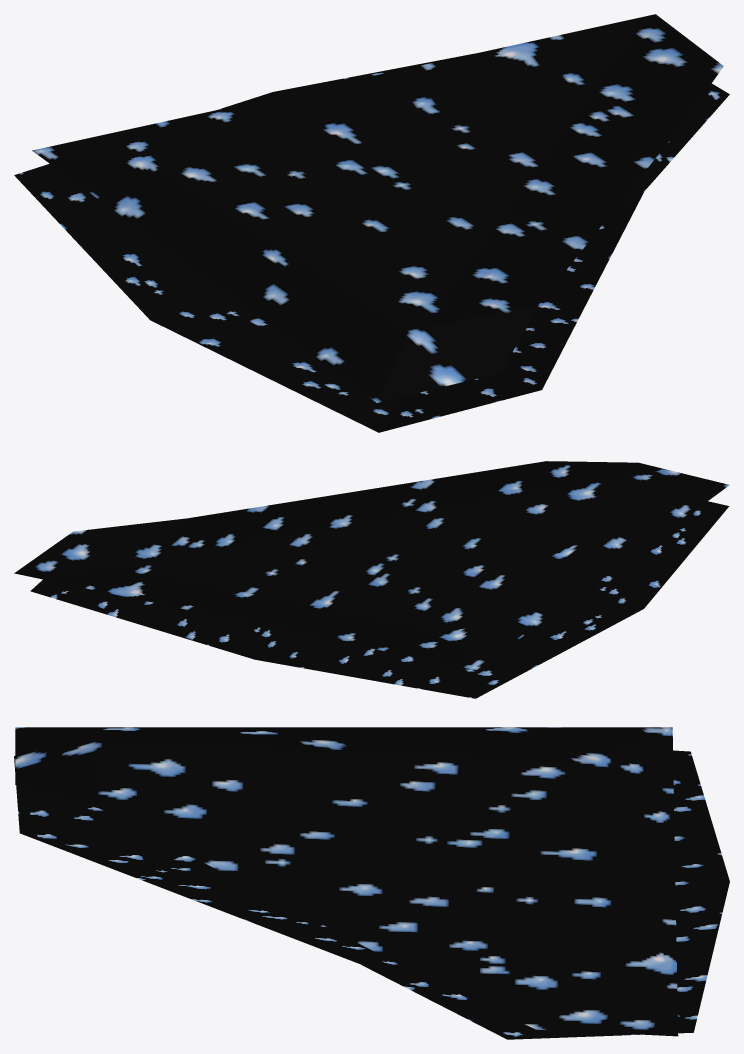
The picture shows the model from 3 angles, top to bottom: view 1: azimuth 30°, elevation 25°; view 2: azimuth 150°, elevation 25°; view 3: azimuth 270°, elevation 25°; orthographic projection. The views are drawn at different scales.
Visible parts, largest first — view 1: 26795; view 2: 26795; view 3: 26795.
Part boxes in pixels (left/top/right/bottom): 26795: left=14, top=14, right=729, bottom=432; 26795: left=14, top=461, right=729, bottom=698; 26795: left=14, top=727, right=729, bottom=1039.
Size of the model in its own units: 1.71 by 0.2014 by 1.63.
1 material, 1 textured.
